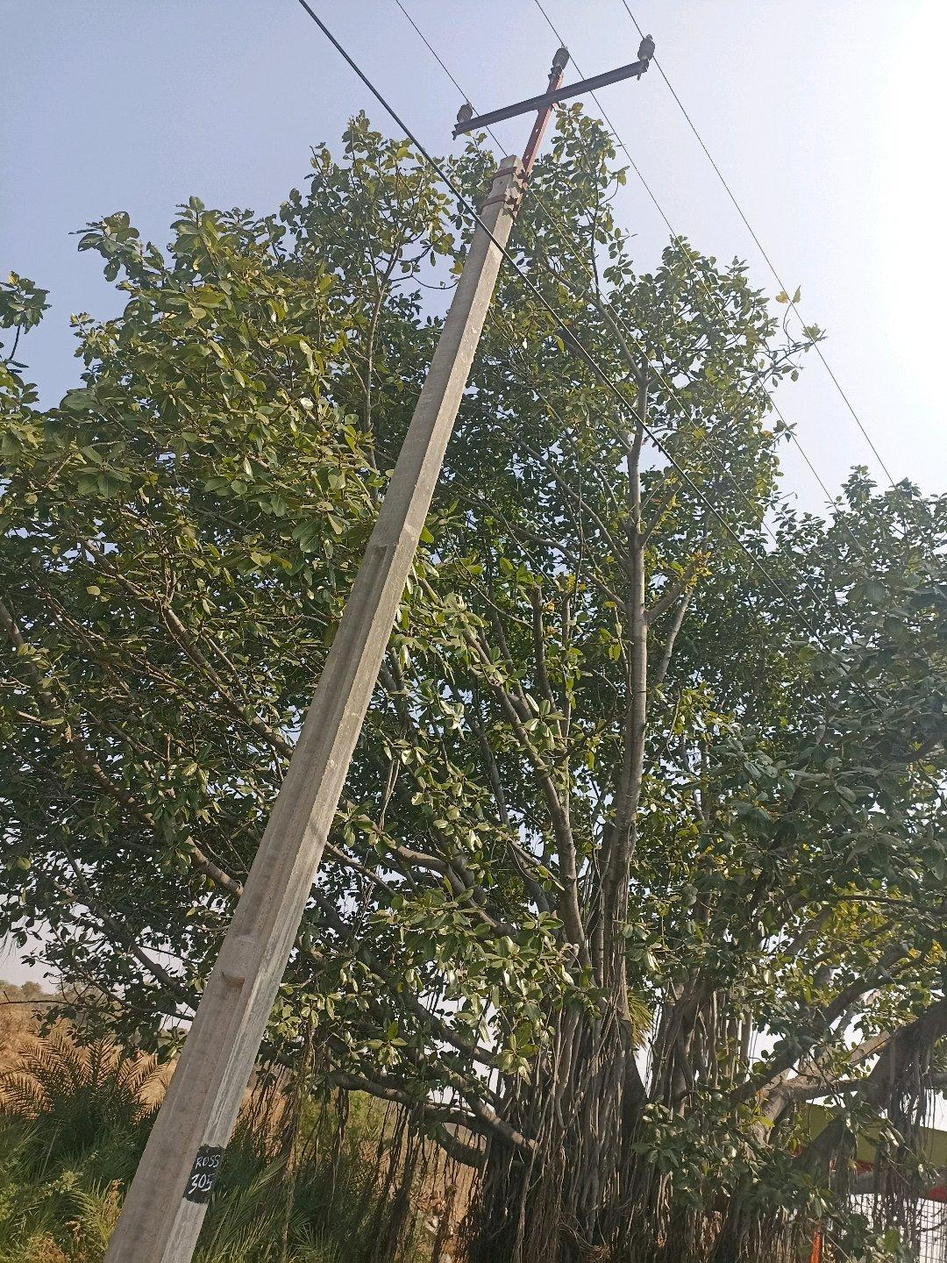{"0" "insulator", "1" "pole", "2" "crossarm", "3" "conductor", "4" "street_: (105, 39, 653, 1262), (465, 116, 487, 130), (459, 127, 462, 132)
